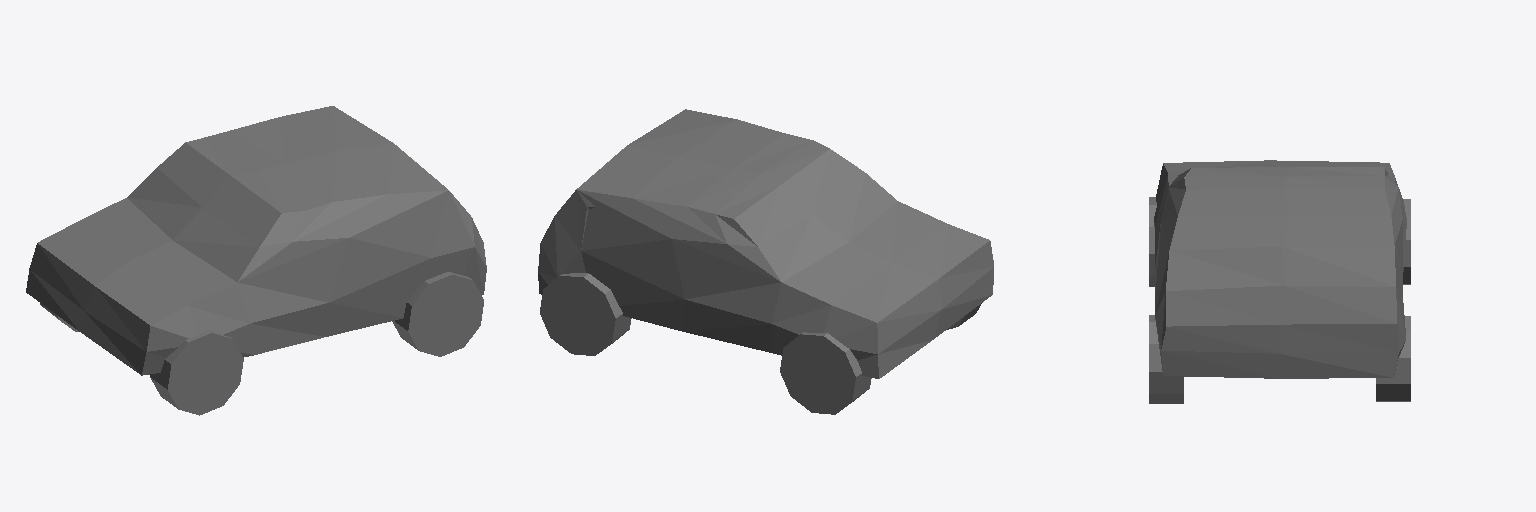
The model's file is car.obj.
The picture shows the model from 3 angles: view 1: azimuth 30°, elevation 25°; view 2: azimuth 150°, elevation 25°; view 3: azimuth 270°, elevation 25°; orthographic projection.
Parts seen in each view (by area): view 1: Plane, Circle.005_Circle.007, Circle_Circle.006; view 2: Plane, Circle.004, Circle.002_Circle.005; view 3: Plane, Circle_Circle.006, Circle.004, Circle.005_Circle.007.
Boxes of the visible parts, box(x1,y1,x2,y2) form: Plane: box(26, 106, 486, 375); Circle.005_Circle.007: box(150, 330, 243, 415); Circle_Circle.006: box(392, 272, 483, 356); Plane: box(538, 109, 993, 378); Circle.004: box(540, 273, 631, 355); Circle.002_Circle.005: box(780, 332, 871, 414); Plane: box(1154, 160, 1406, 378); Circle_Circle.006: box(1149, 315, 1183, 403); Circle.004: box(1376, 316, 1410, 401); Circle.005_Circle.007: box(1149, 197, 1156, 286).
Size of the model in its own units: 1.29 by 0.5888 by 0.851.